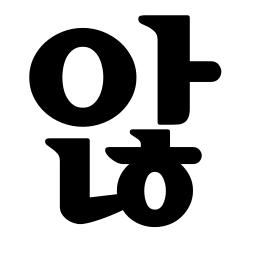Gaji: (142, 47, 210, 99)
